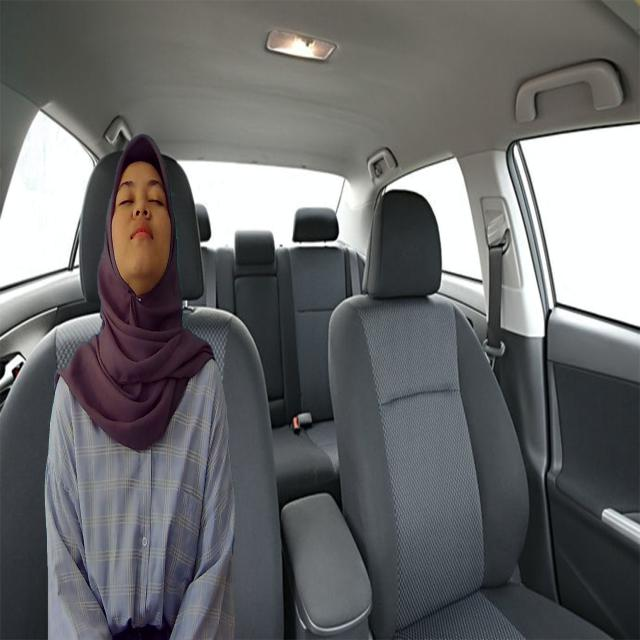no-seatbelt: (109, 126, 178, 300)
